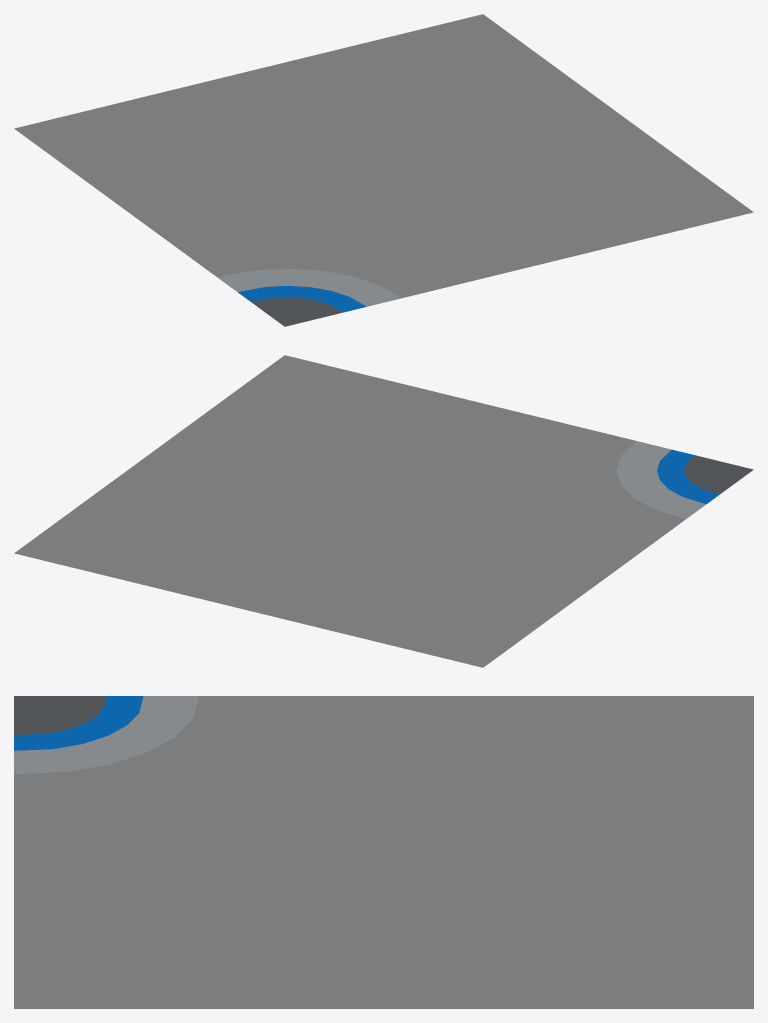
File: Ceiling_type_B_011.fbx
3 renders of one model, top to bottom at view 1: azimuth 30°, elevation 25°; view 2: azimuth 150°, elevation 25°; view 3: azimuth 270°, elevation 25°, orthographic. The views are drawn at different scales.
Visible parts, largest first — view 1: Ceiling_type_B_011; view 2: Ceiling_type_B_011; view 3: Ceiling_type_B_011.
Part boxes in pixels (left/top/right/bottom): Ceiling_type_B_011: left=14, top=14, right=753, bottom=326; Ceiling_type_B_011: left=14, top=355, right=753, bottom=667; Ceiling_type_B_011: left=14, top=696, right=753, bottom=1008.
Bounding box in the file's own units: 400 × 400 × 5.7.
